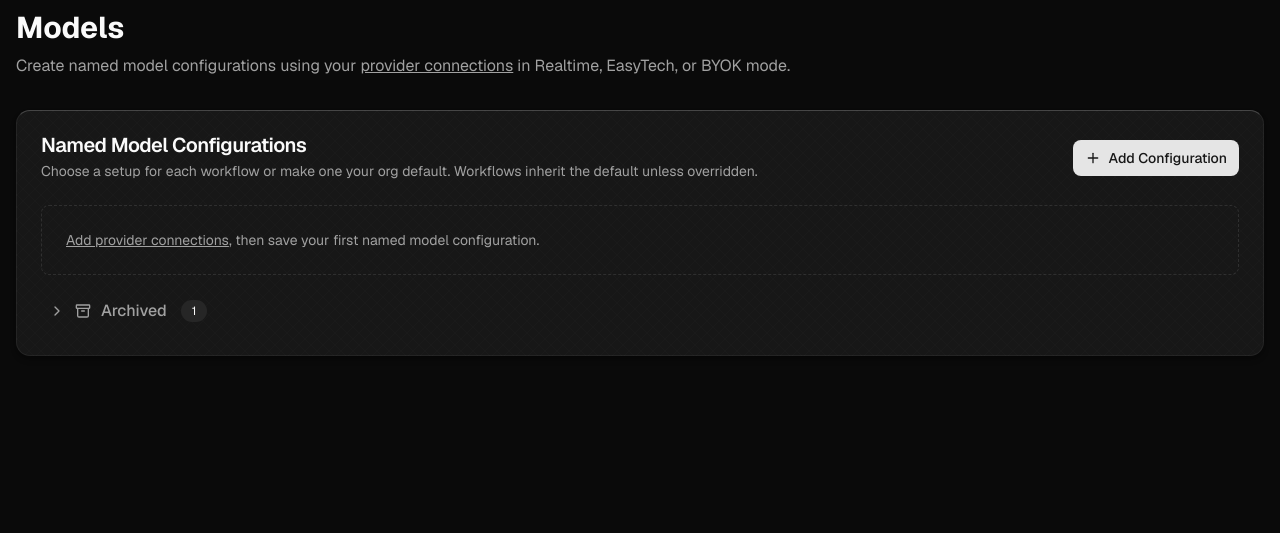
provider connection and model configuration lists › keeps a failed restore in the archive and shows the server error
Click the button with aria-label "Toggle Archived": (134, 310) [41,291,1239,331]
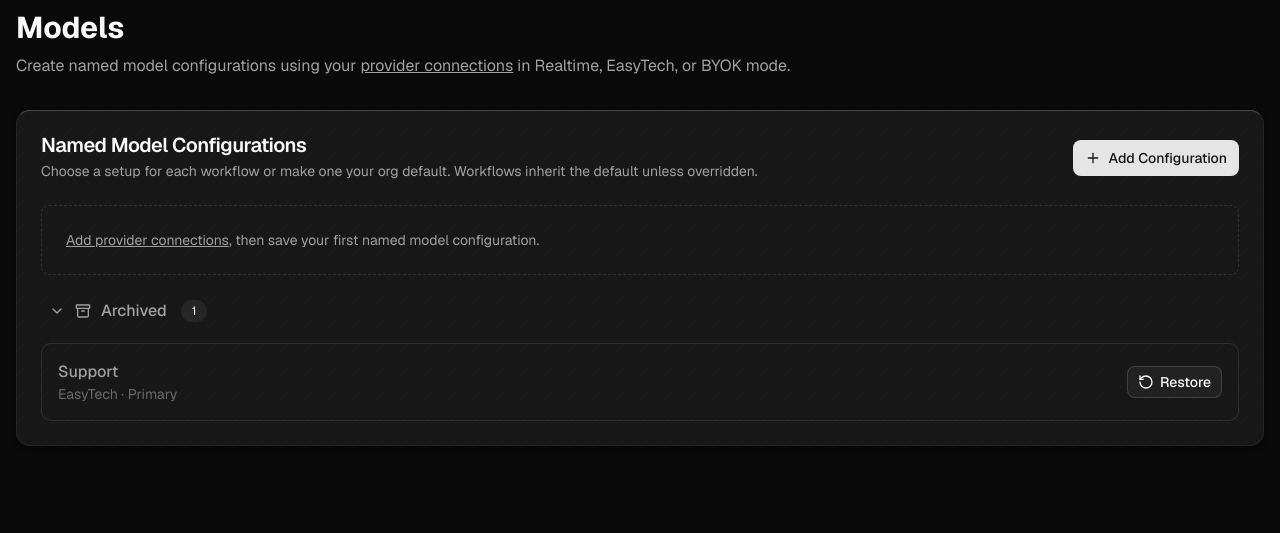
Click the button "Restore": (1174, 382) [1127,366,1222,398]
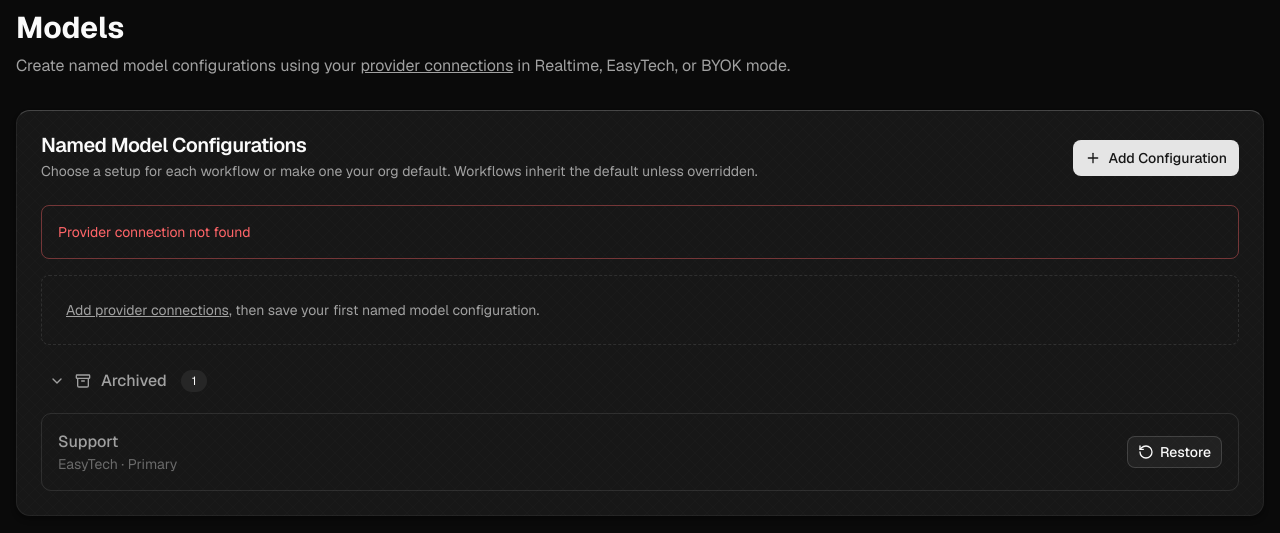
Result: the heading "Support" is shown at [58,431,118,452]
Result: the message reads "Provider connection not found" at [58,223,251,241]
